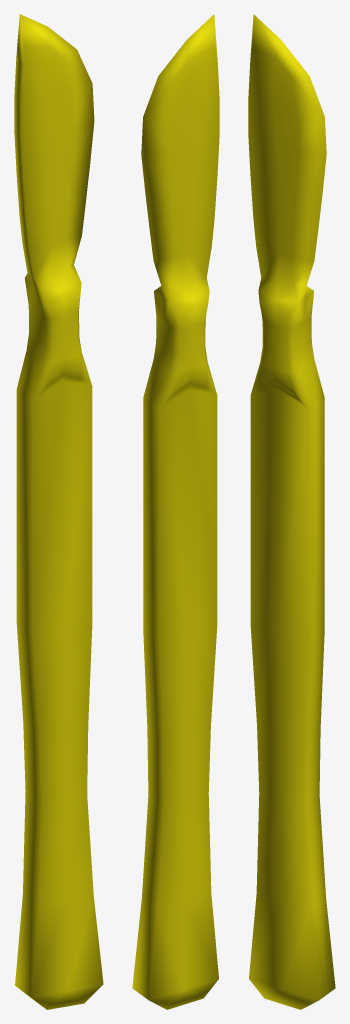
File: knife1.fbx
The picture shows the model from 3 angles, left to right: view 1: azimuth 30°, elevation 25°; view 2: azimuth 210°, elevation 25°; view 3: azimuth 330°, elevation 25°; orthographic projection. The views are drawn at different scales.
Parts seen in each view (by area): view 1: Plane.003; view 2: Plane.003; view 3: Plane.003.
Boxes of the visible parts, x1,y1,x2,y2 form: Plane.003: (14, 14, 103, 1009); Plane.003: (132, 14, 219, 1009); Plane.003: (248, 14, 335, 1009).
Bounding box in the file's own units: 30.98 × 381 × 15.86.
